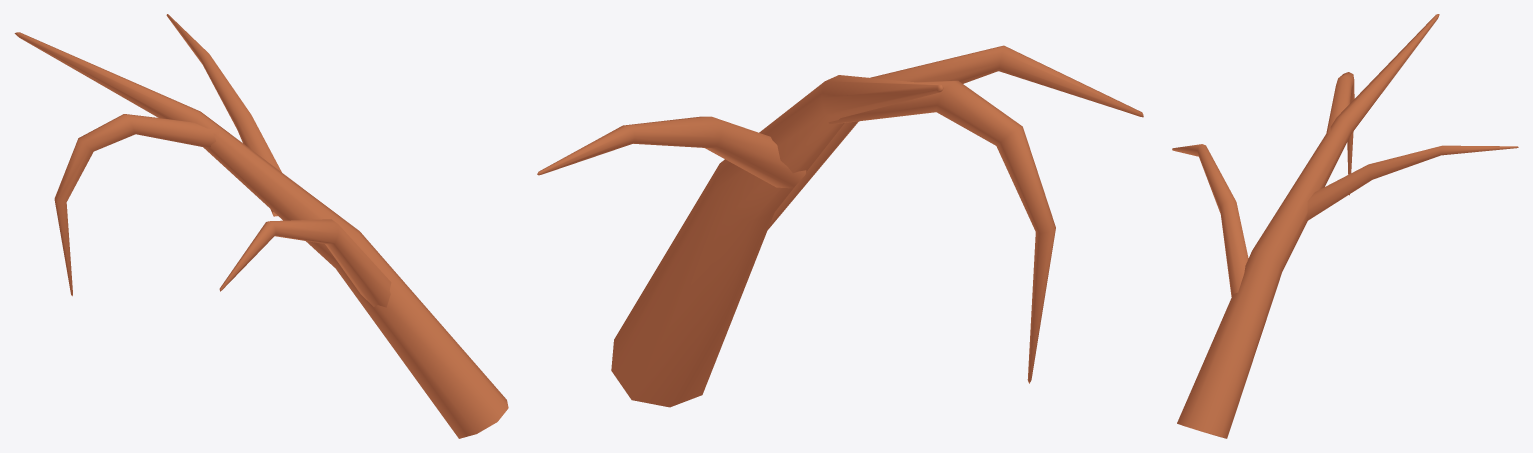
File: twig_01.fbx
The picture shows the model from 3 angles, left to right: view 1: azimuth 30°, elevation 25°; view 2: azimuth 150°, elevation 25°; view 3: azimuth 270°, elevation 25°; orthographic projection. The views are drawn at different scales.
Parts seen in each view (by area): view 1: twig_01; view 2: twig_01; view 3: twig_01.
Part boxes in pixels (x1,y1,x2,y2): twig_01: [14, 14, 508, 438]; twig_01: [537, 45, 1143, 407]; twig_01: [1172, 14, 1518, 438].
Size of the model in its own units: 59.47 by 58.52 by 60.87.
